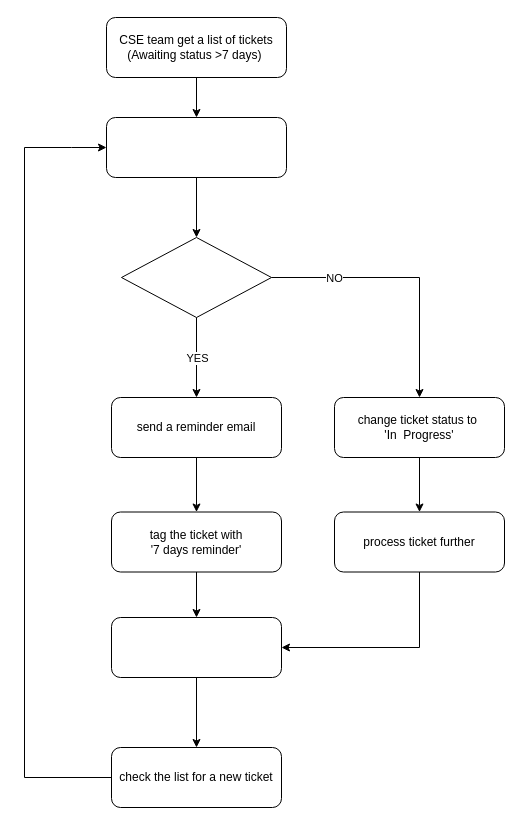
Some shapes in this 522 by 825 pixel diagram are drawn without their labels. The centre of each missing label's shape, as x and y in pixels:
check details for one ticket: point 196,147
comment in ticket thread: point 196,647
pending customer action: point 196,277
